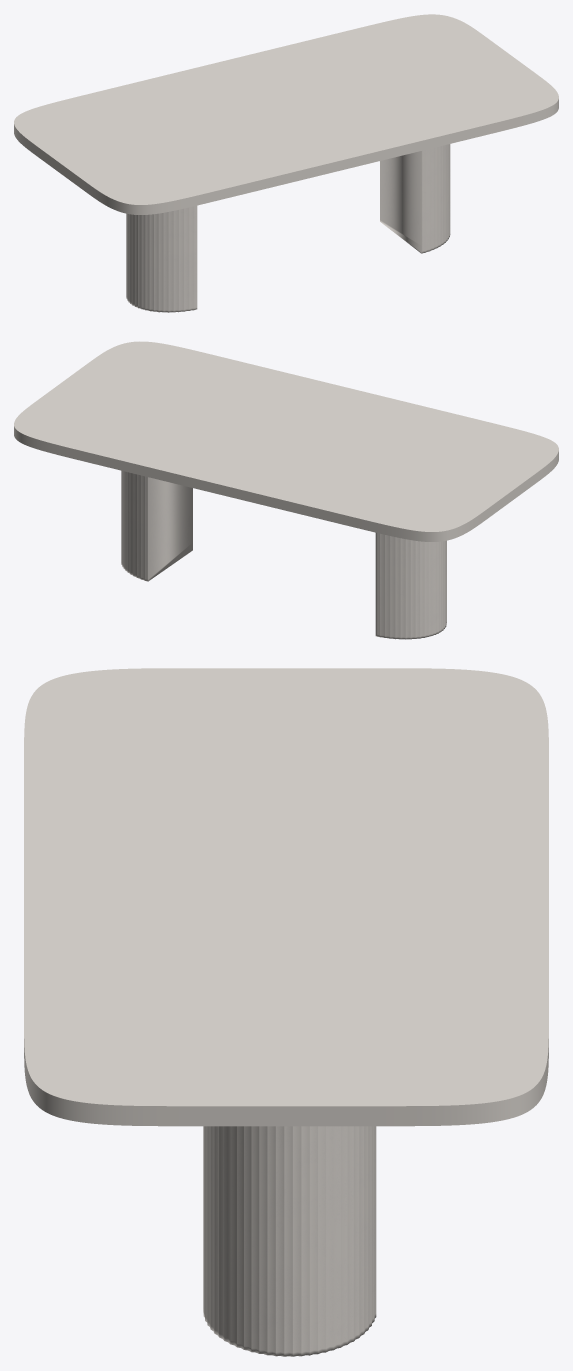
The model's file is pearlwhite_softrecta_standard_flute.glb.
The picture shows the model from 3 angles, top to bottom: view 1: azimuth 30°, elevation 25°; view 2: azimuth 150°, elevation 25°; view 3: azimuth 270°, elevation 25°; orthographic projection. The views are drawn at different scales.
Visible parts, largest first — view 1: standard_softrecta, flute; view 2: standard_softrecta, flute; view 3: standard_softrecta, flute.
Part boxes in pixels (x1,y1,x2,y2): standard_softrecta: (14, 14, 558, 214); flute: (126, 144, 450, 312); standard_softrecta: (14, 341, 558, 541); flute: (121, 470, 446, 639); standard_softrecta: (24, 668, 548, 1126); flute: (203, 1126, 376, 1356).
Size of the model in its own units: 7.5 by 2.5 by 3.8.
Materials: 1 (1 with a texture image).
